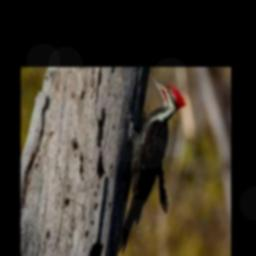Woodpecker: (118, 74, 186, 254)
